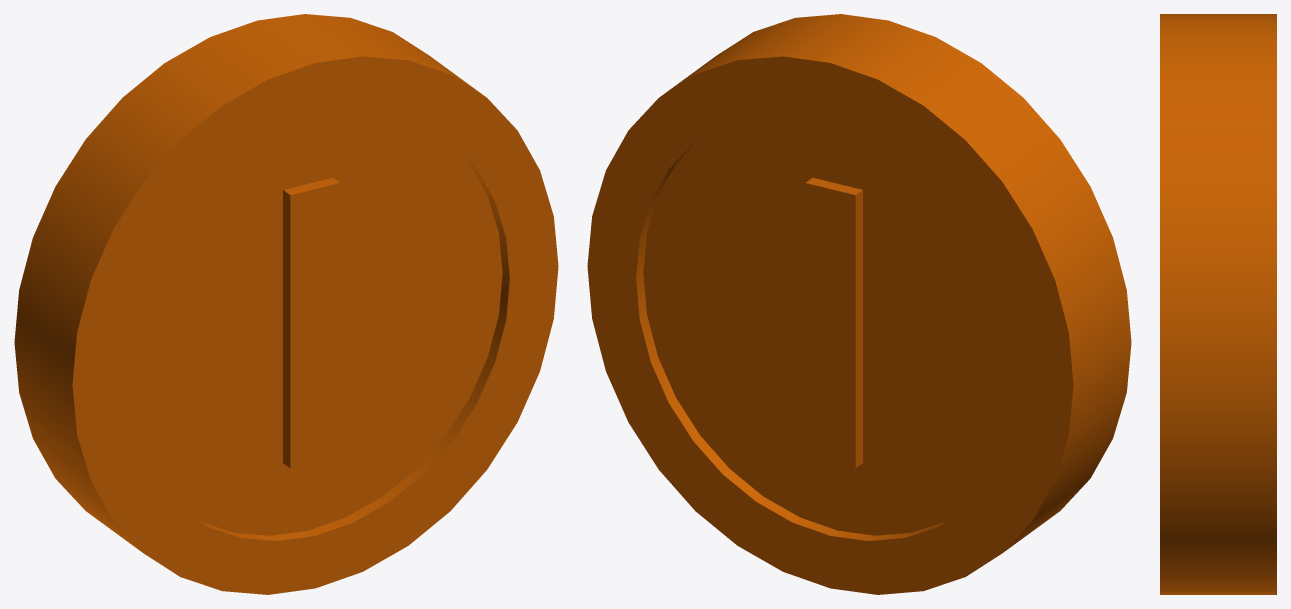
File: Coin_Grounded.obj
3 views of the same model, side by side, from view 1: azimuth 30°, elevation 25°; view 2: azimuth 150°, elevation 25°; view 3: azimuth 270°, elevation 25° (orthographic).
Visible parts, largest first — view 1: CoinObj.001; view 2: CoinObj.001; view 3: CoinObj.001.
Part boxes in pixels (x1,y1,x2,y2): CoinObj.001: (14, 14, 558, 594); CoinObj.001: (587, 14, 1131, 594); CoinObj.001: (1160, 14, 1276, 594).
Size of the model in its own units: 0.1936 by 0.2 by 0.04.
